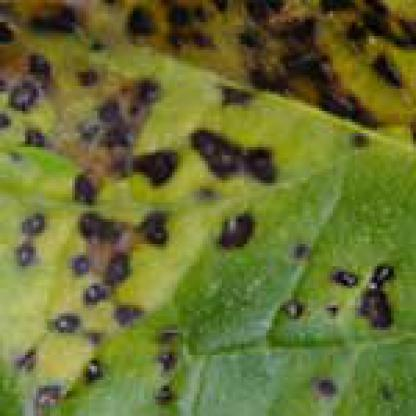Tomato Septoria leaf spot: (3, 8, 413, 414)
